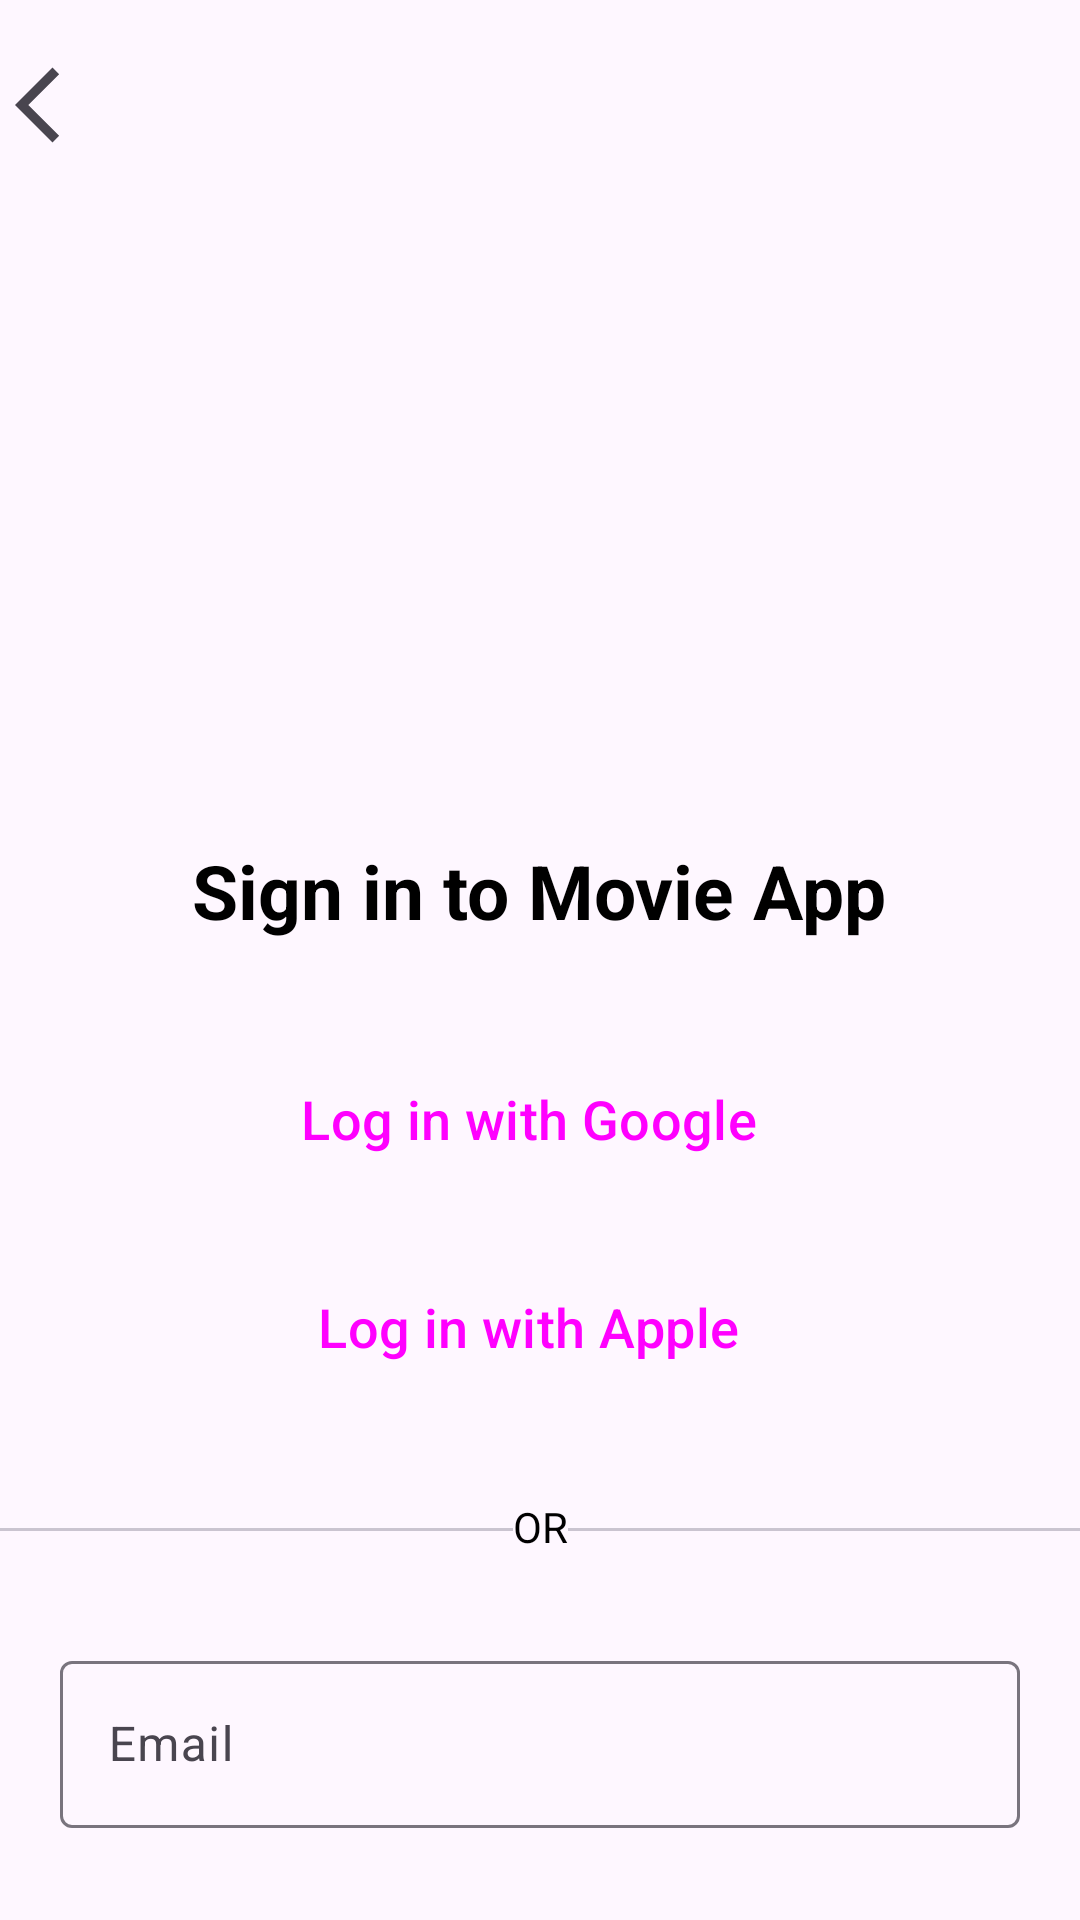

Where icons sit on this 1080w x 1920h app screen, as (left=x1, top=y1, right=x2, bottom=y2):
back activity: (left=15, top=67, right=59, bottom=143)
